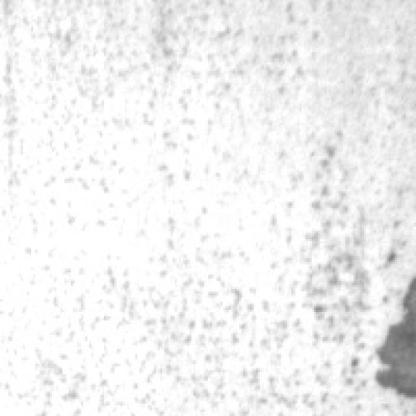patches: (370, 266, 414, 400)
pitted_surface: (0, 0, 370, 410)
